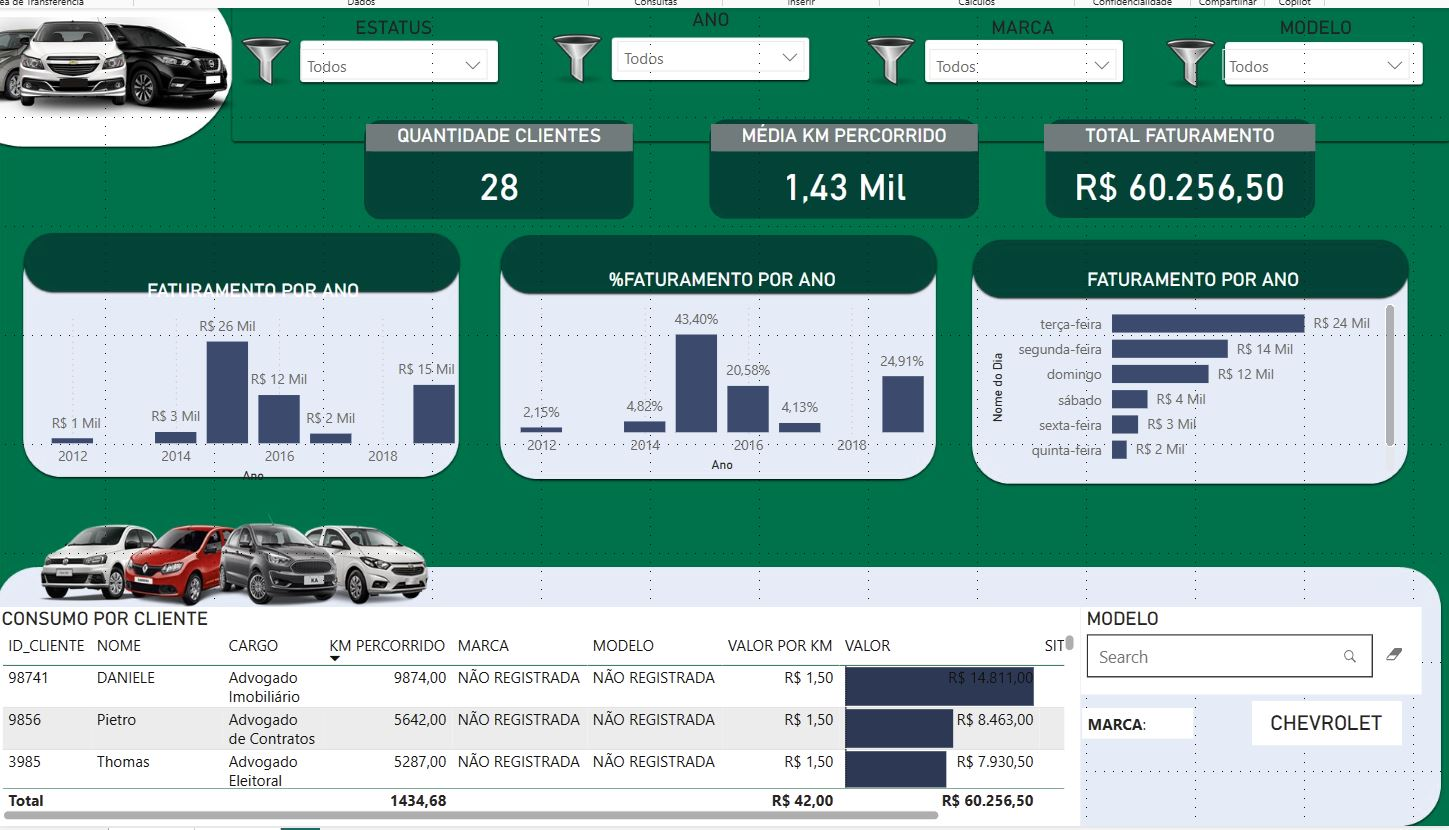

This screenshot's page, from the dashboard's own definition file:
{"tool":"powerbi","page":{"name":"Página 1","canvas":[1280,720],"ordinal":0},"visuals":[{"type":"card","title":"TOTAL FATURAMENTO","fields":{"Values":["tb_km.TOTAL FATURAMENTO"]},"box":[923.3,101.9,239.4,87.7],"z":0},{"type":"card","title":"MÉDIA KM PERCORRIDO","fields":{"Values":["tb_km.MEDIA KM PERCORRIDO"]},"box":[629.3,101.9,234.7,87.7],"z":1000},{"type":"card","title":"QUANTIDADE CLIENTES","fields":{"Values":["tb_km.QUANTIDADE CLIENTES"]},"box":[325.9,101.9,234.7,87.7],"z":2000},{"type":"tableEx","title":"CONSUMO POR CLIENTE","fields":{"Values":["tb_km.ID_CLIENTE","Clientes.NOME","Clientes.CARGO","tb_km.KILOMETRO_PERCORRIDO","tb_km.MARCA","tb_km.MODELO","tb_km.VALOR POR KM","tb_km.TOTAL VENDA","tb_km.SITUAÇÃO CADASTRAL"]},"box":[0,527.4,955.3,193.2],"z":3000},{"type":"columnChart","title":"%FATURAMENTO POR ANO","fields":{"Category":["tb_km.DATA.Variation.Hierarquia de datas.Ano"],"Y":["tb_km.TOTAL FATURAMENTO"]},"box":[457.5,228.7,365,183.7],"z":4000},{"type":"clusteredBarChart","title":"FATURAMENTO POR ANO","fields":{"Y":["tb_km.TOTAL FATURAMENTO"],"Category":["tb_km.Nome do Dia"]},"box":[872.3,228.7,365,183.7],"z":5000},{"type":"columnChart","title":"FATURAMENTO POR ANO","fields":{"Category":["tb_km.DATA.Variation.Hierarquia de datas.Ano"],"Y":["tb_km.TOTAL FATURAMENTO"]},"box":[44.4,238.7,365,183.7],"z":6000},{"type":"slicer","title":"ESTATUS","fields":{"Values":["tb_km.STATUS2"]},"box":[258.4,7.1,184.9,67.6],"z":7000},{"type":"slicer","title":"ANO","fields":{"Values":["tb_km.Ano"]},"box":[536.9,0,184.9,67.6],"z":8000},{"type":"slicer","title":"MARCA","fields":{"Values":["tb_km.MARCA"]},"box":[811.9,7.1,184.9,67.6],"z":9000},{"type":"slicer","title":"MODELO","fields":{"Values":["tb_km.MODELO"]},"box":[1070.2,7.1,184.9,67.6],"z":10000},{"type":"textFilter25A4896A83E0487089E2B90C9AE57C8A","fields":{"field":["tb_km.MODELO"]},"box":[955.3,527.4,299.9,77],"z":11000},{"type":"textbox","box":[956.4,616.3,98.4,27.3],"z":12000},{"type":"card","fields":{"Values":["tb_km.MARCA"]},"box":[1105.8,610.4,131.6,39.1],"z":13000}]}

Visuals, with their boxes on the page's 1280x720 design canvas (x1, y1, x2, y2). These are canvas units, not pixel positions in the 1449x830 screenshot, which may show the page scaled, cropped or inside an application window:
"TOTAL FATURAMENTO" card: 923 102 1163 190
"MÉDIA KM PERCORRIDO" card: 629 102 864 190
"QUANTIDADE CLIENTES" card: 326 102 561 190
"CONSUMO POR CLIENTE" tableEx: 0 527 955 721
"%FATURAMENTO POR ANO" columnChart: 458 229 822 412
"FATURAMENTO POR ANO" clusteredBarChart: 872 229 1237 412
"FATURAMENTO POR ANO" columnChart: 44 239 409 422
"ESTATUS" slicer: 258 7 443 75
"ANO" slicer: 537 0 722 68
"MARCA" slicer: 812 7 997 75
"MODELO" slicer: 1070 7 1255 75
textFilter25A4896A83E0487089E2B90C9AE57C8A - tb_km.MODELO: 955 527 1255 604
textbox: 956 616 1055 644
card - tb_km.MARCA: 1106 610 1237 650
